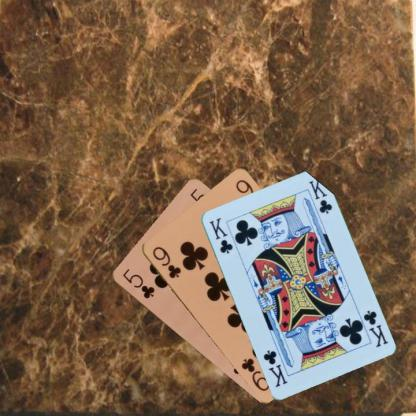5c: (120, 266, 156, 300)
9c: (150, 243, 182, 280)
Kc: (360, 307, 389, 349), (206, 214, 234, 255)
